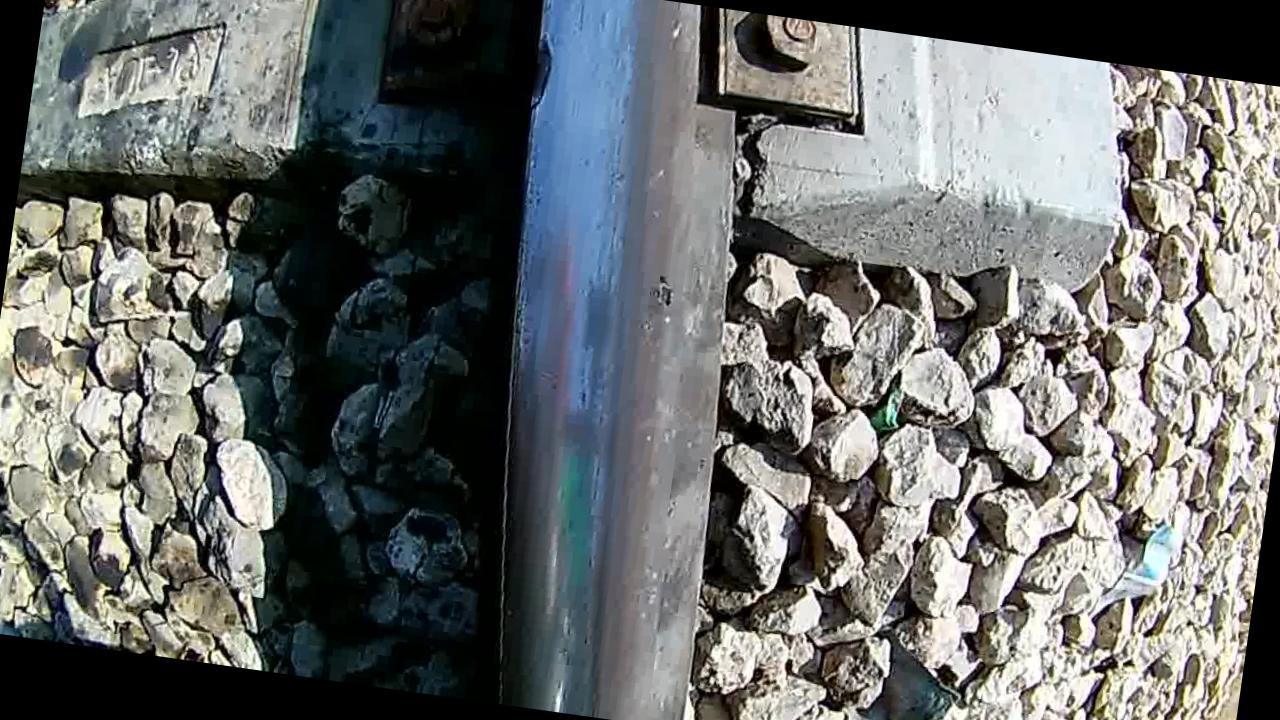crack: (512, 11, 591, 119)
